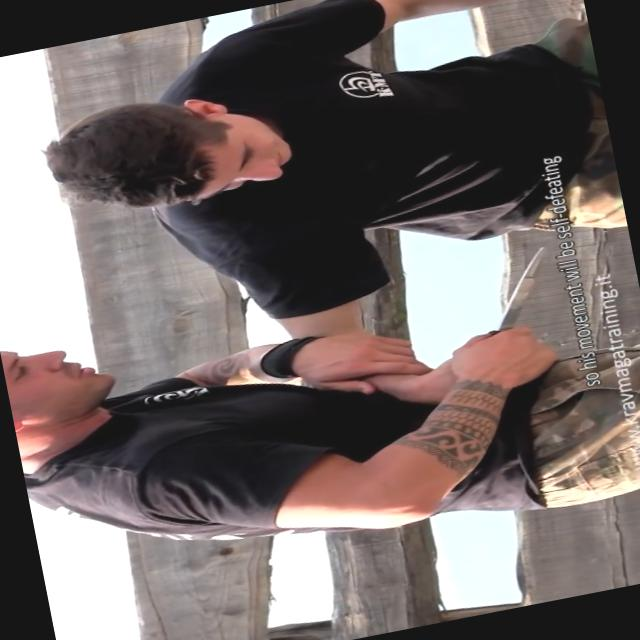knife: (427, 240, 570, 376)
